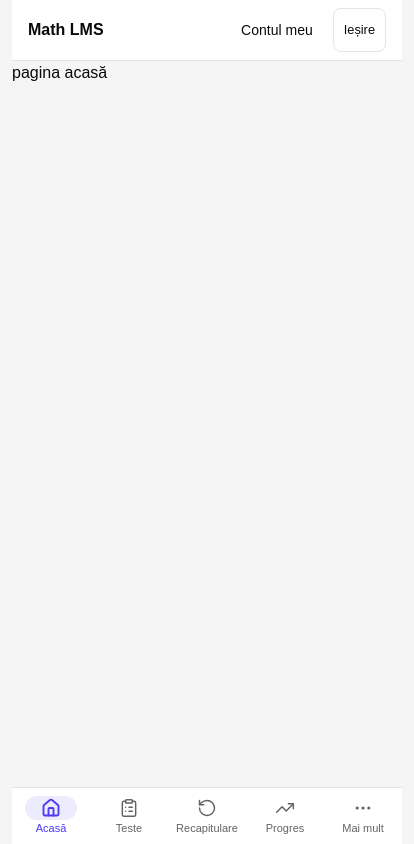
Test: AppShell › on a phone: the tab bar at the bottom › keeps the student's four main pages one tap away and the rest under "Mai mult"
The image size is (414, 844).
Expected: the link "Capitole EN" is not shown
Click the button "Mai mult": click(363, 816) [324,788,402,843]
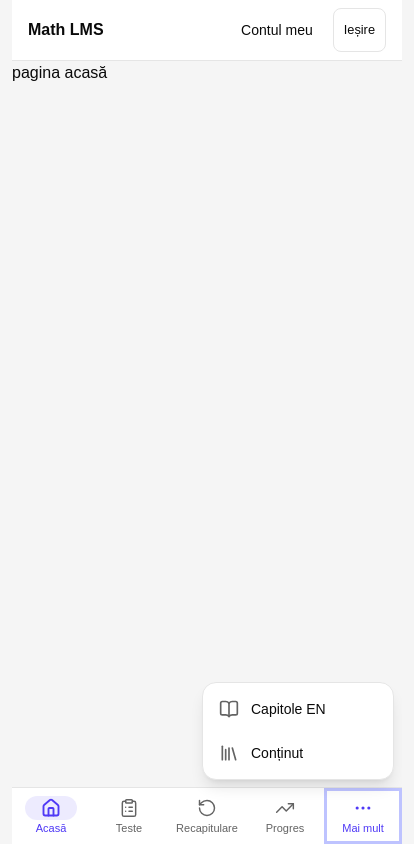
Now the button "Mai mult" is expanded, box [324,788,402,843]
Now the links read "Capitole EN", "Conținut", in this order, box [219,699,326,719]; [219,743,303,763]
